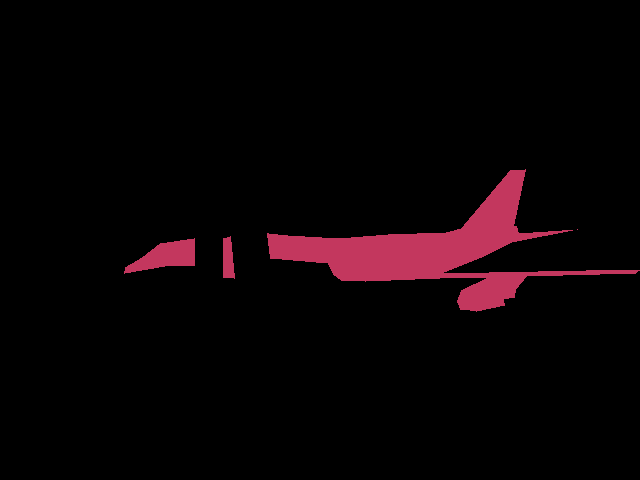Airplane: (124, 169, 640, 311)
